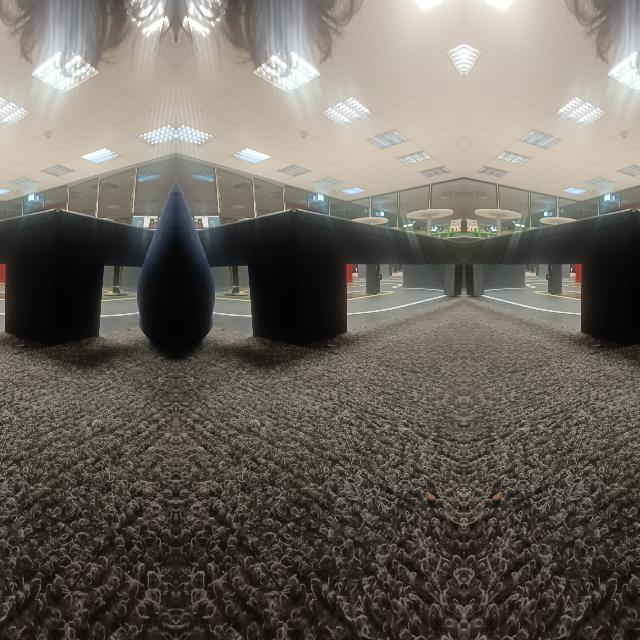obstacle: (208, 208, 464, 342), (463, 207, 640, 342), (0, 207, 141, 342)
